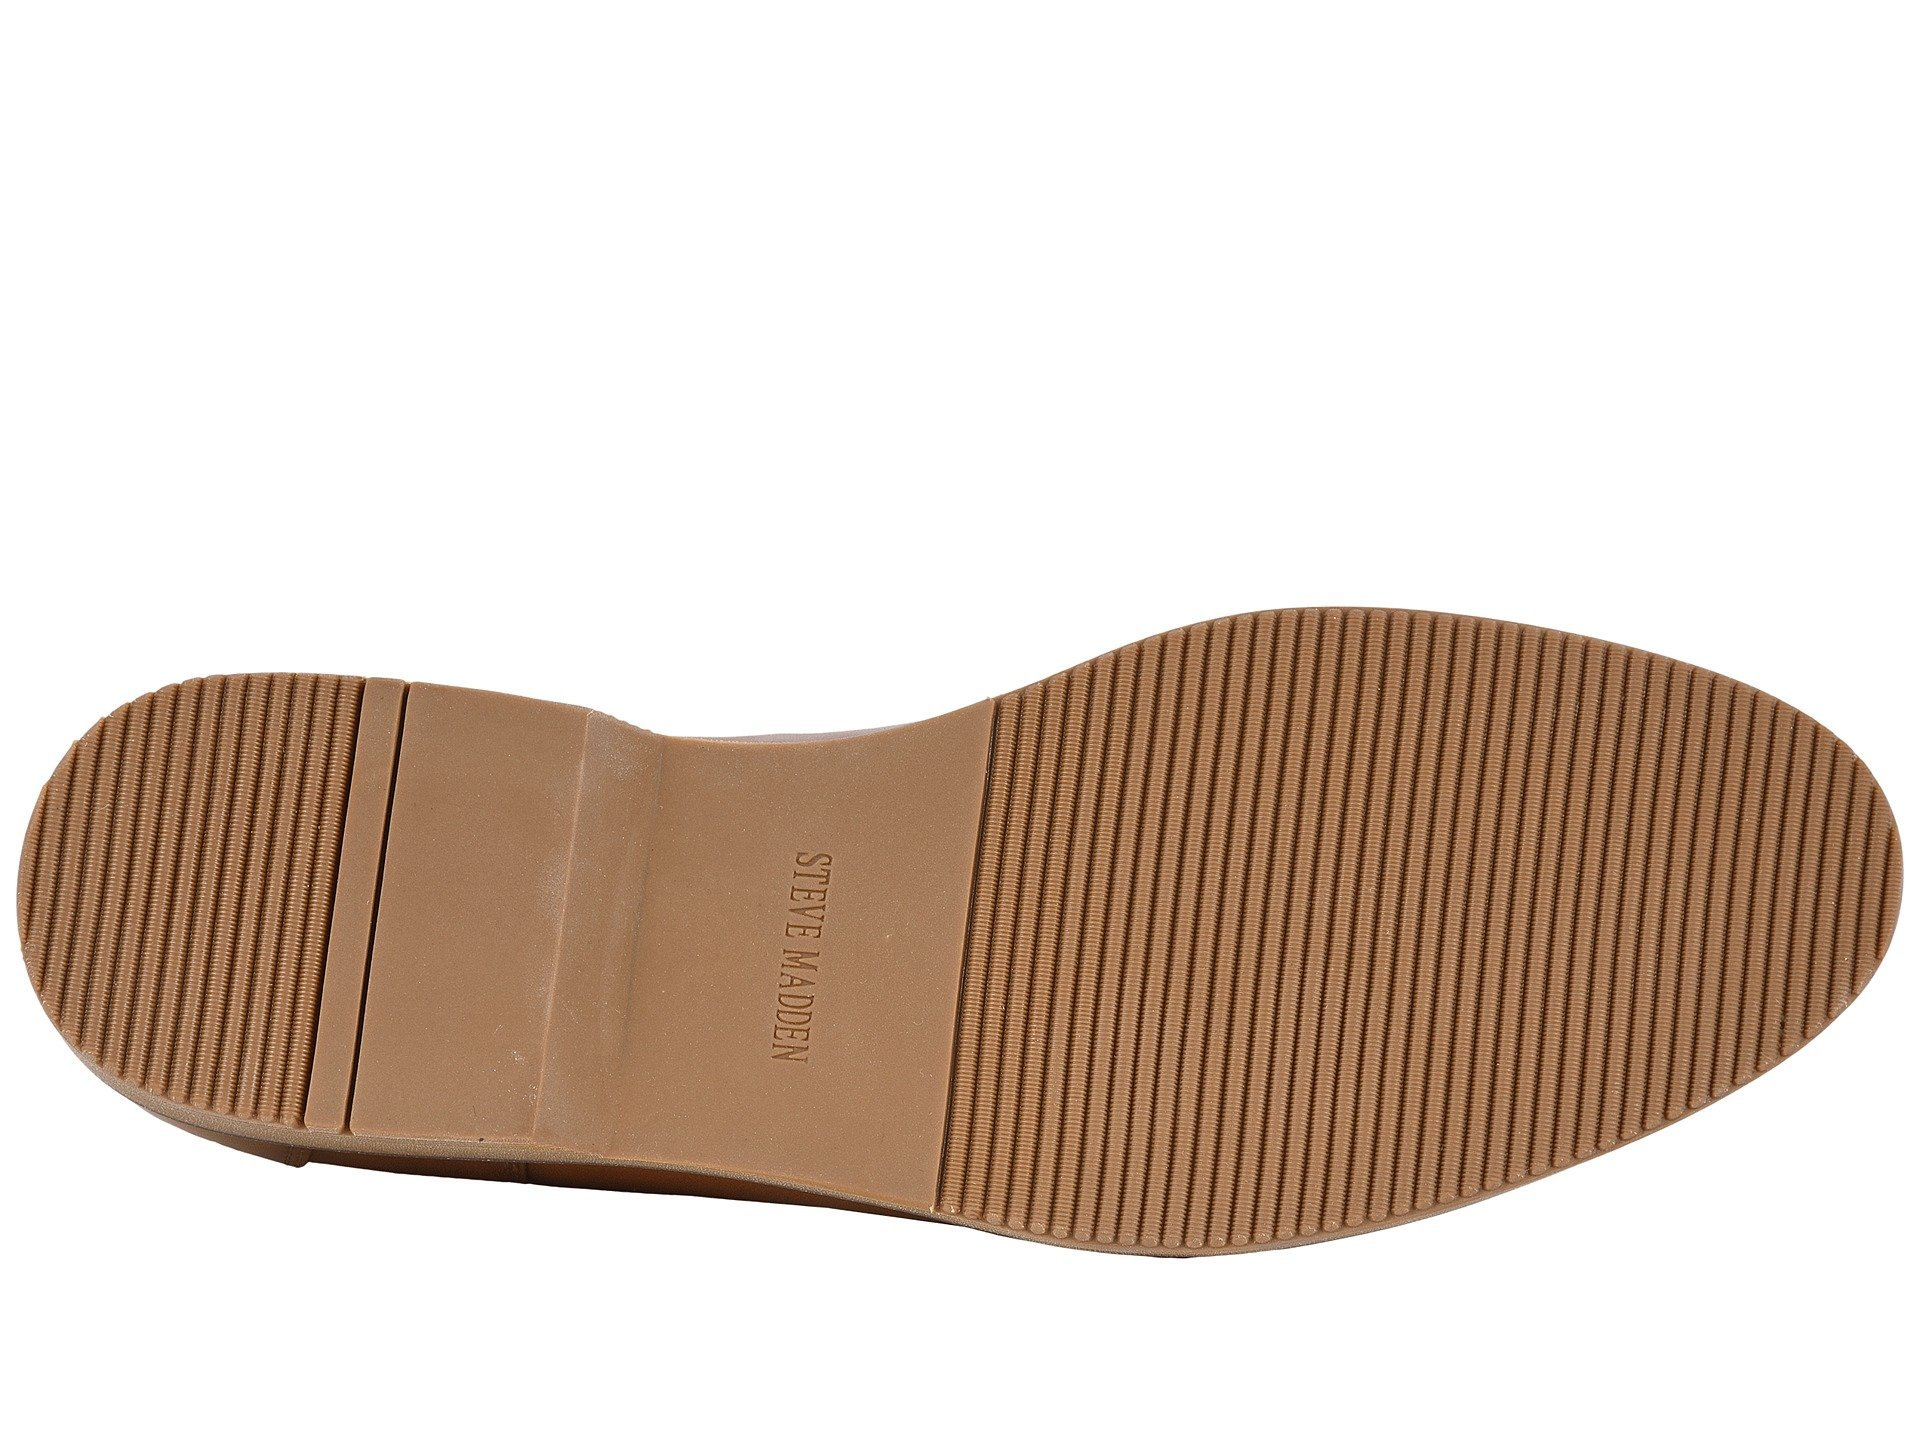line: (1085, 685, 1538, 1165), (95, 774, 437, 1078), (1559, 708, 1846, 1029)
text: (711, 820, 918, 1101)
